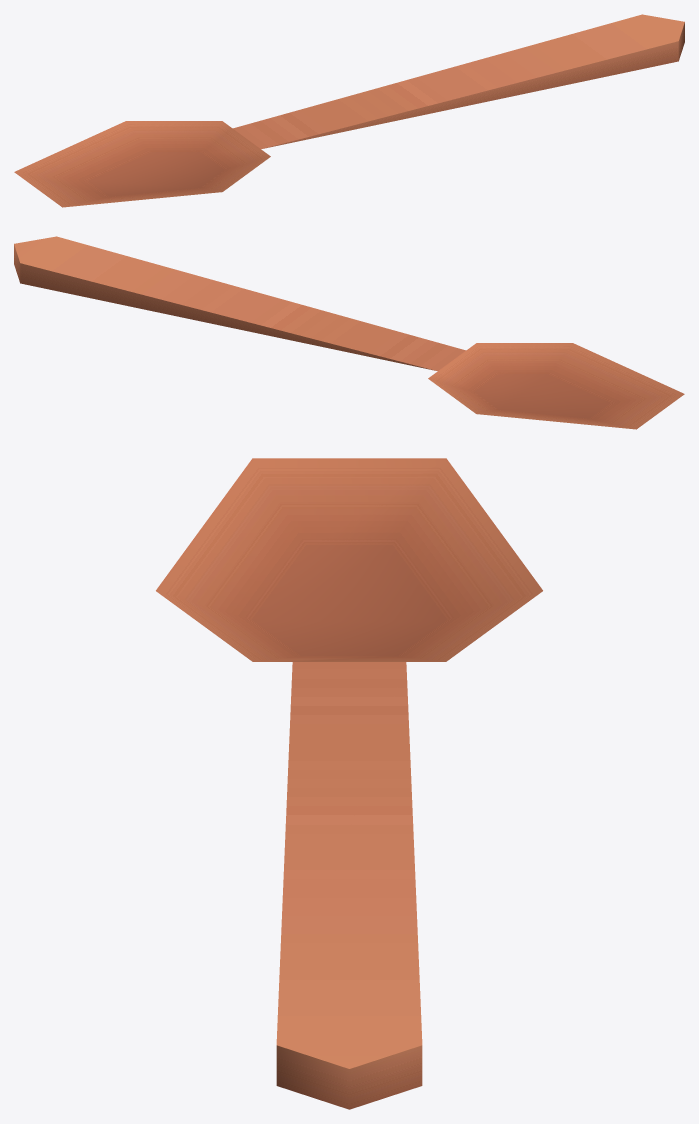
The model's file is cooking-spoon.glb.
3 renders of one model, top to bottom at view 1: azimuth 30°, elevation 25°; view 2: azimuth 150°, elevation 25°; view 3: azimuth 270°, elevation 25°, orthographic. The views are drawn at different scales.
Parts seen in each view (by area): view 1: cooking-spoon; view 2: cooking-spoon; view 3: cooking-spoon.
Boxes of the visible parts, box(x1,y1,x2,y2) form: cooking-spoon: box(14, 14, 684, 207); cooking-spoon: box(14, 236, 684, 429); cooking-spoon: box(156, 458, 542, 1109).
Size of the model in its own units: 0.6656 by 0.0244 by 0.1728.
1 material, 1 textured.
